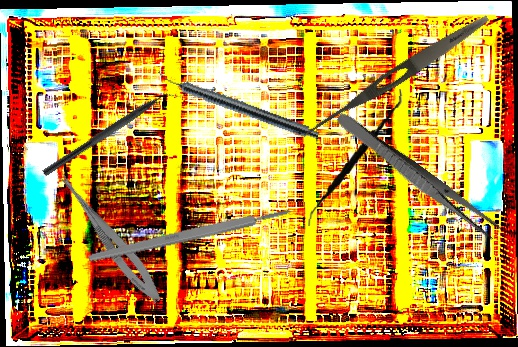Chopper: (41, 82, 184, 186)
Dressing Forceps: (299, 10, 493, 144), (331, 110, 504, 242)
Handpiece: (154, 68, 322, 142)
Micro Scissor: (48, 167, 168, 308)
Scalpel Handle: (86, 205, 293, 265)
Spatula Surgical: (305, 81, 404, 234)
